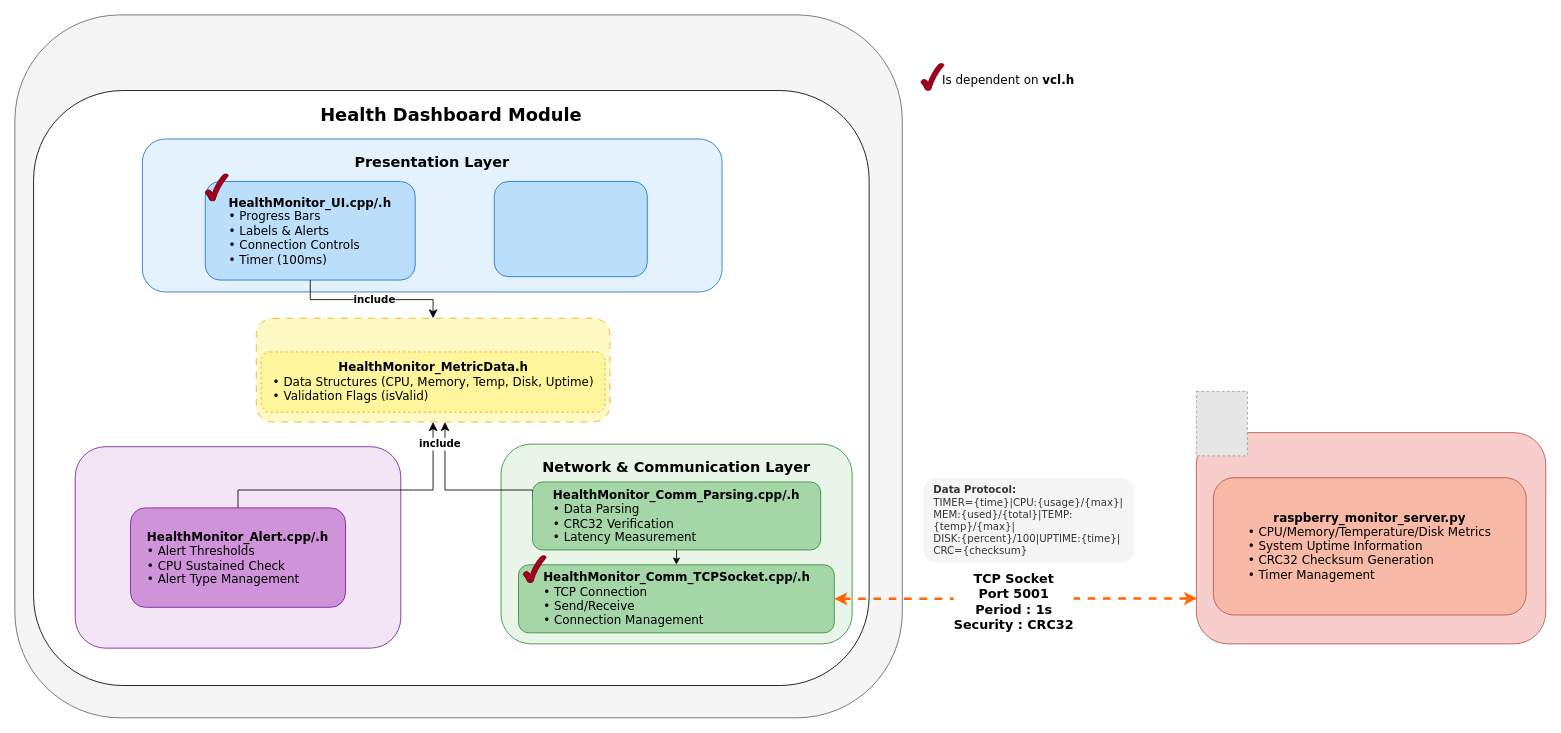
Image size: 1561x733. Some labels were removed from this diagram. Grey dashed boxes stand in for pictures. The box of each missing label's shape, as (x1, y1, x2, y2) in pixels:
<< ADS-B Display Application >>: (14, 14, 902, 718)
Business Logic Lay er: (74, 446, 401, 648)
HealthMonitor_UI.dfm • UI Form Definition: (493, 181, 647, 277)
Raspberry Pi Monitor Server: (1196, 432, 1546, 644)
Shared Data Model: (255, 317, 610, 422)
